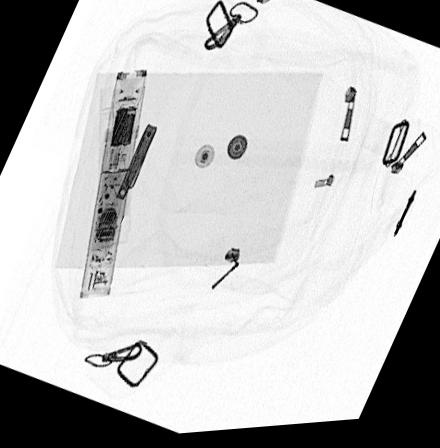Baton: (78, 70, 147, 299)
